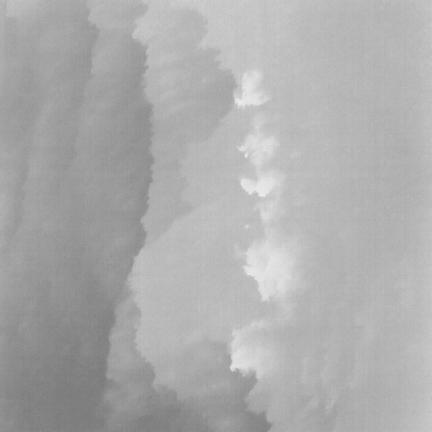flukeprints: (244, 235, 291, 300), (238, 125, 279, 167), (234, 70, 269, 106), (240, 172, 277, 197)
